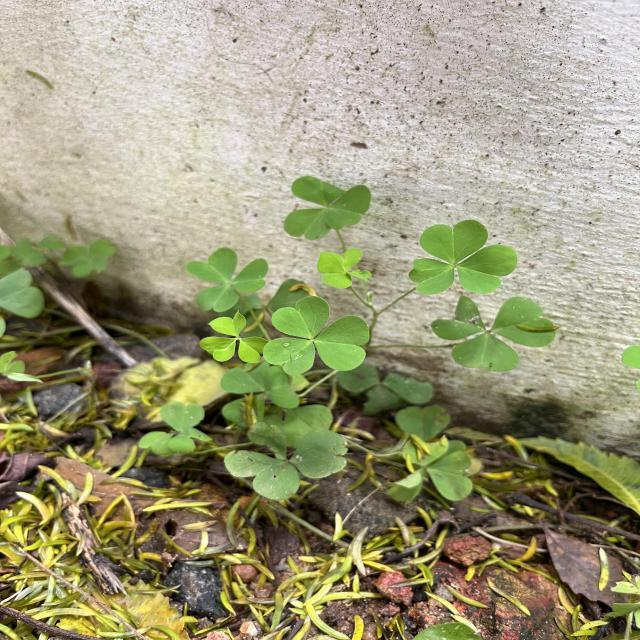Oxalis corniculata: (222, 420, 350, 502), (430, 294, 556, 372), (262, 294, 370, 378), (408, 219, 519, 296), (283, 176, 373, 242), (185, 245, 269, 312), (138, 400, 215, 458), (198, 309, 268, 364), (316, 248, 372, 290)
